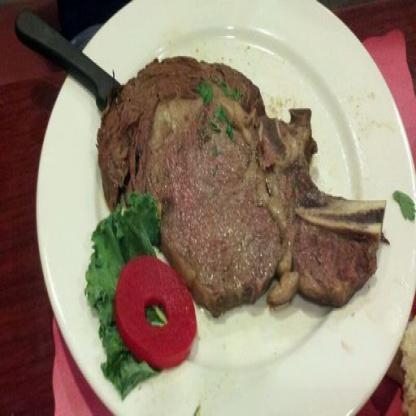beef: (146, 85, 380, 307)
